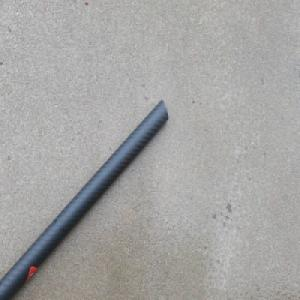LuggagePart: (0, 96, 170, 300)
